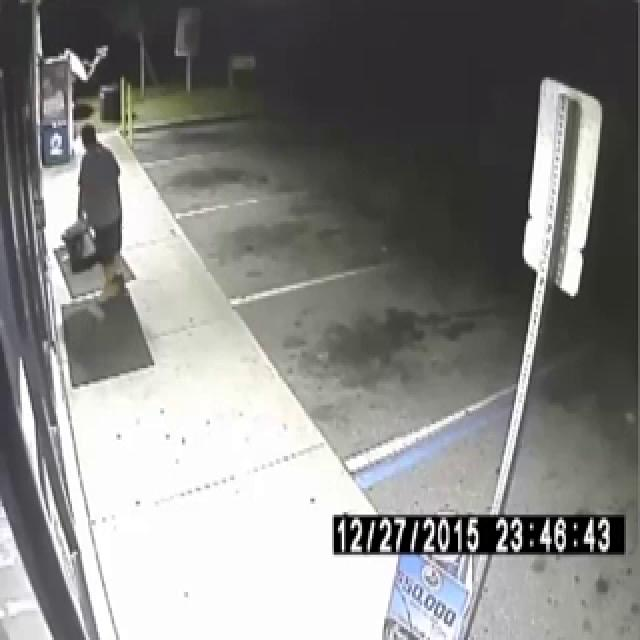vandalism: (51, 51, 206, 486)
